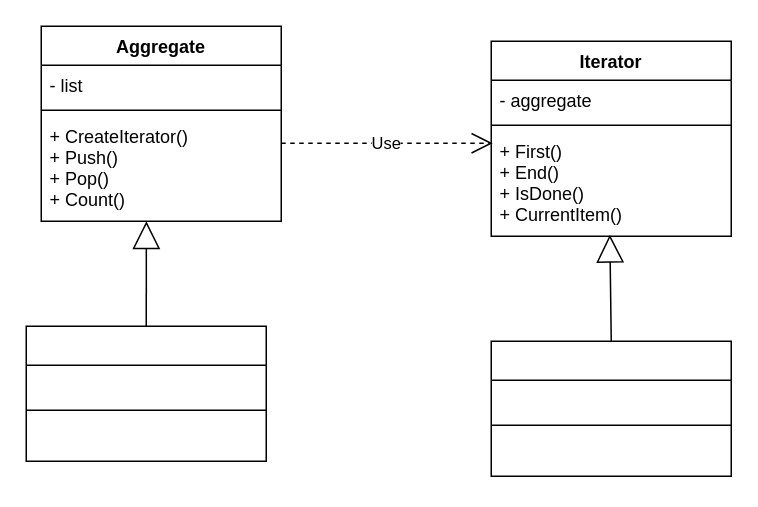
The diagram is 758 pixels wide and 507 high, and some of its shapes have lost their labels. Each missing label, with the centre of its shape:
"ConcreteAggregate" belongs at pixel 145 393.
"ConcreteIterator" belongs at pixel 610 408.
